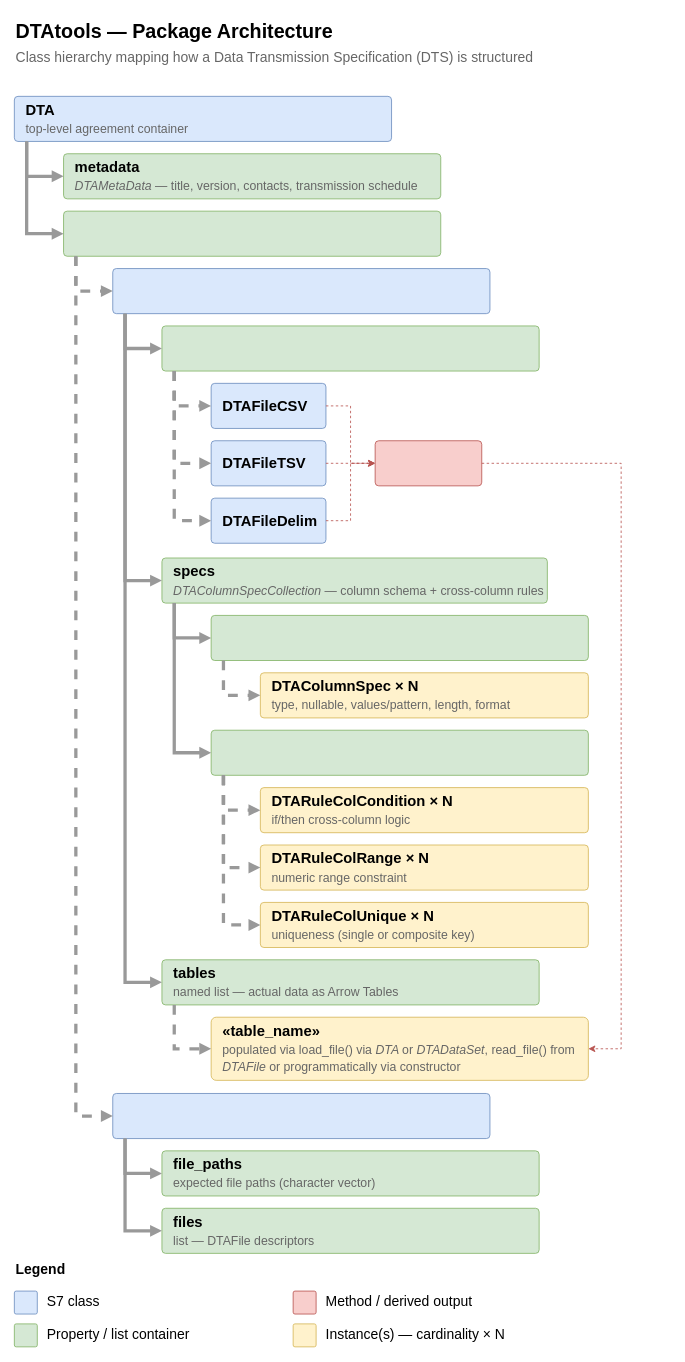
The diagram is 685 pixels wide and 1362 high, and some of its shapes have lost their labels. The shapes that lost their labels are listed below. From the top down, each one's box as (x1, y1, x2, y2) in pixels, then its label:
(63, 210, 441, 256): datasets named list of DTADataSet — one or more per DTS
(112, 268, 490, 314): DTADataSetTabular tabular data: full column-spec + rule validation
(161, 325, 539, 371): files list — file handlers: patterns, count, naming
(374, 440, 482, 486): read_file() → Arrow Table
(210, 615, 588, 661): columns named list of DTAColumnSpec
(210, 729, 588, 775): rules list of DTARule
(112, 1093, 490, 1139): DTADataSetFile non-tabular: file presence/readability check
